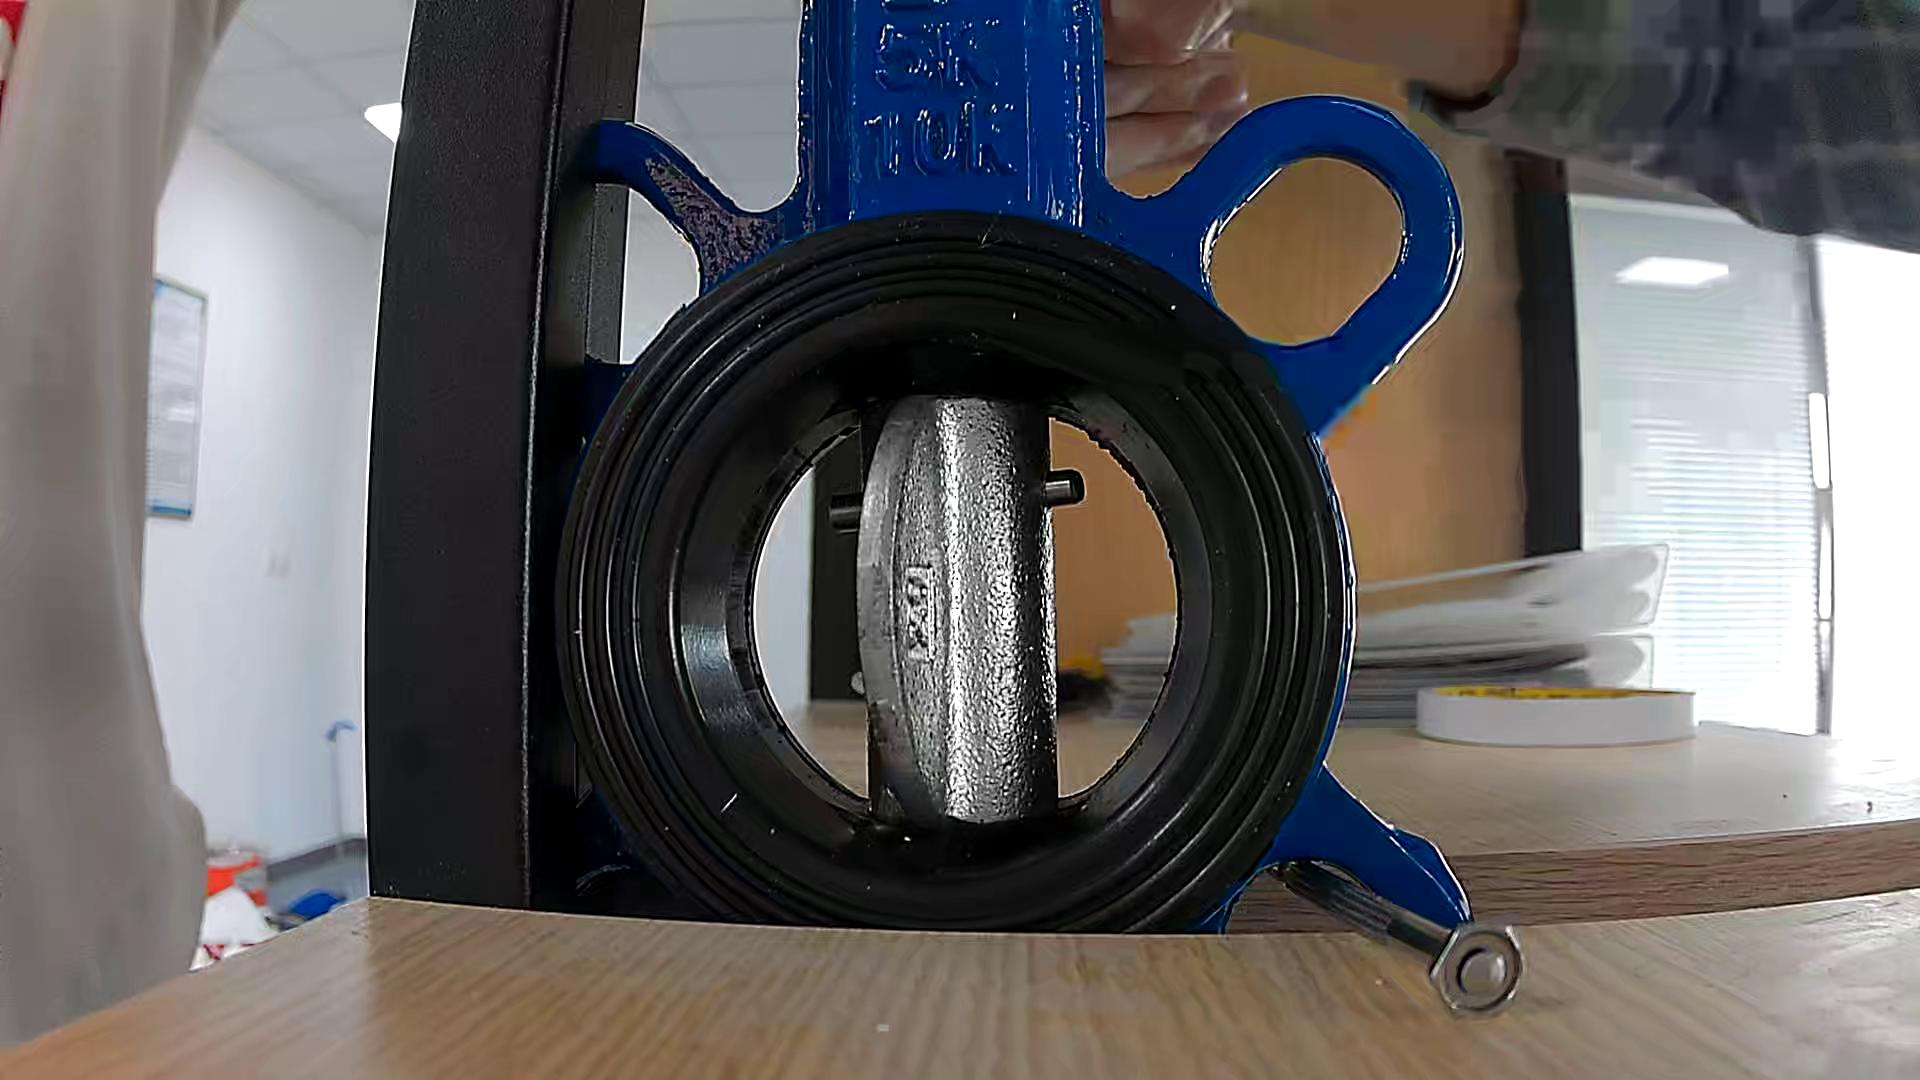valve: (858, 394, 1058, 825)
